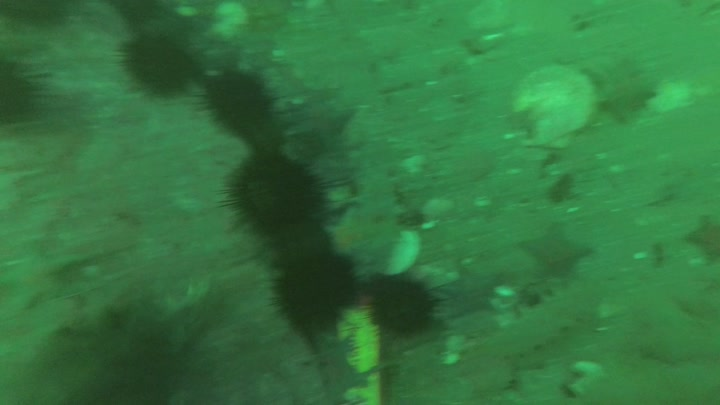echinus: (219, 152, 324, 235), (271, 251, 364, 339), (199, 71, 283, 142), (115, 33, 204, 97), (363, 272, 442, 341), (258, 222, 340, 279), (1, 63, 63, 136), (96, 1, 162, 28)
scallop: (509, 66, 595, 150)
starfish: (515, 223, 588, 281), (285, 99, 361, 142), (687, 216, 720, 266)
